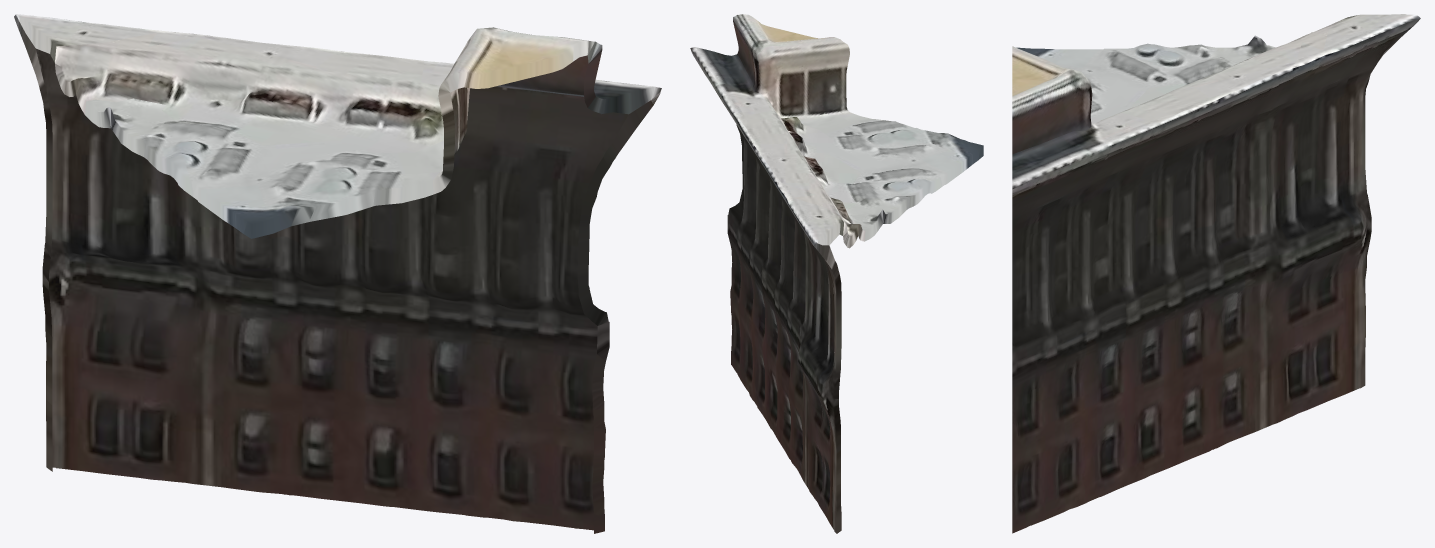
File: z20-167785-405226-h1-yup-uvflip-v3-world.glb
The picture shows the model from 3 angles, left to right: view 1: azimuth 30°, elevation 25°; view 2: azimuth 150°, elevation 25°; view 3: azimuth 270°, elevation 25°; orthographic projection. The views are drawn at different scales.
Size of the model in its own units: 17.92 by 20.8 by 17.96.
Materials: 1 (1 with a texture image).
